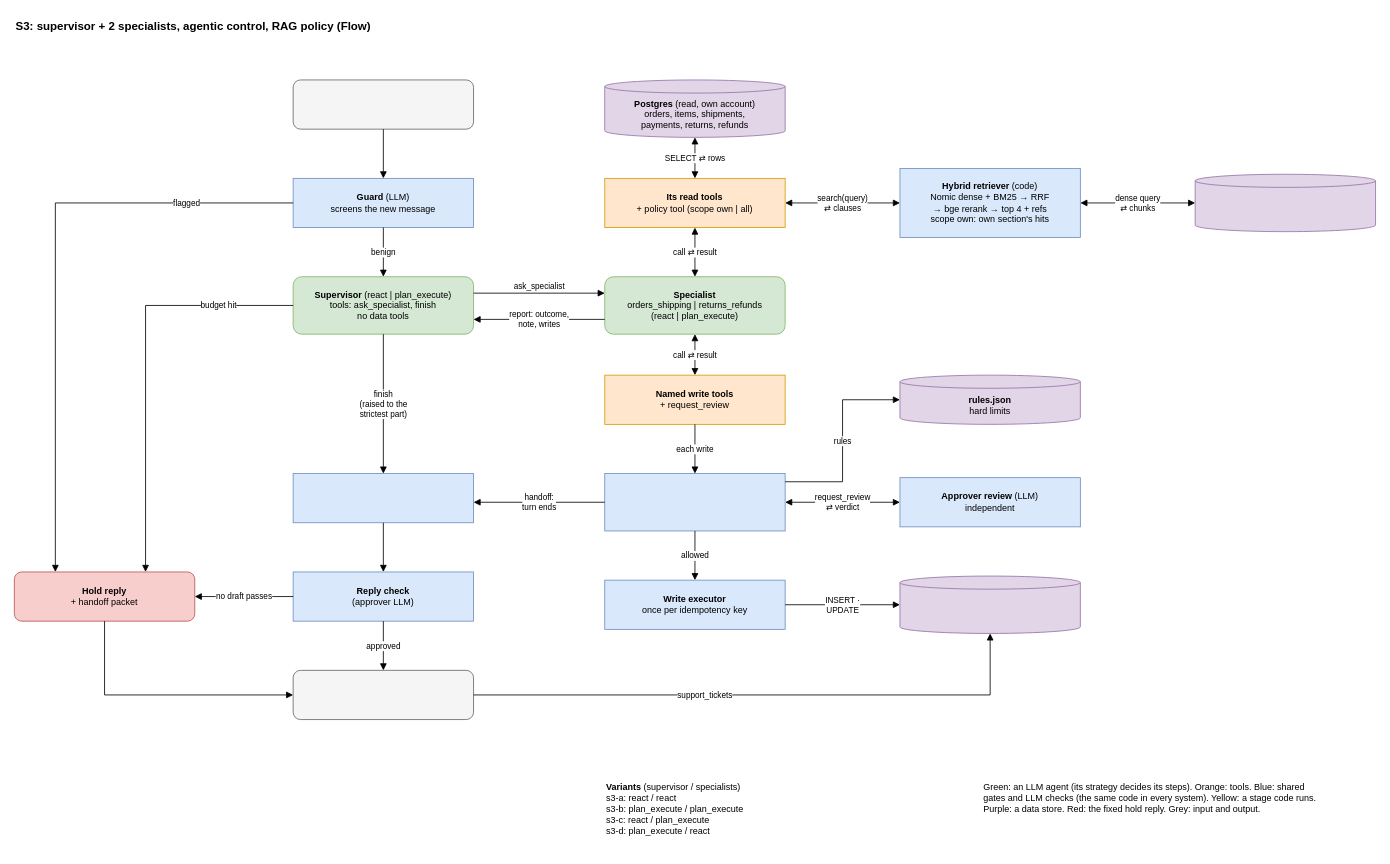
Image size: 1390x864. Some labels were removed from this diagram. The shapes that lost their labels are listed below. From the top down, each one's centre as x and y in pixels, then its label:
the point at 383,104: Customer message + history (untrusted)
the point at 1285,202: Pinecone index section chunks of the 2 policy PDFs
the point at 383,498: Reply writer (LLM) + wording checks (code)
the point at 694,502: Write gate replay → rules → citations → unseen returns → route
the point at 989,604: Postgres (write) returns, refunds, cancels, backend_writes, support_tickets
the point at 383,695: Ticket save (code) support_tickets
